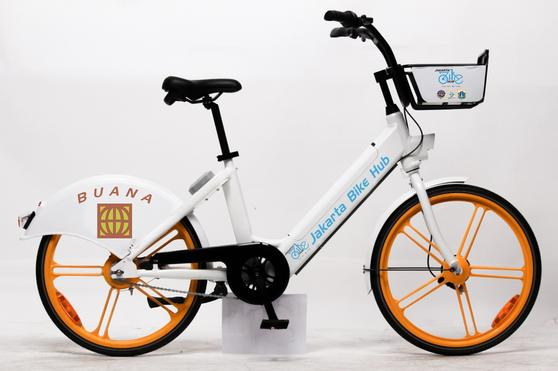bike: (18, 19, 552, 362)
